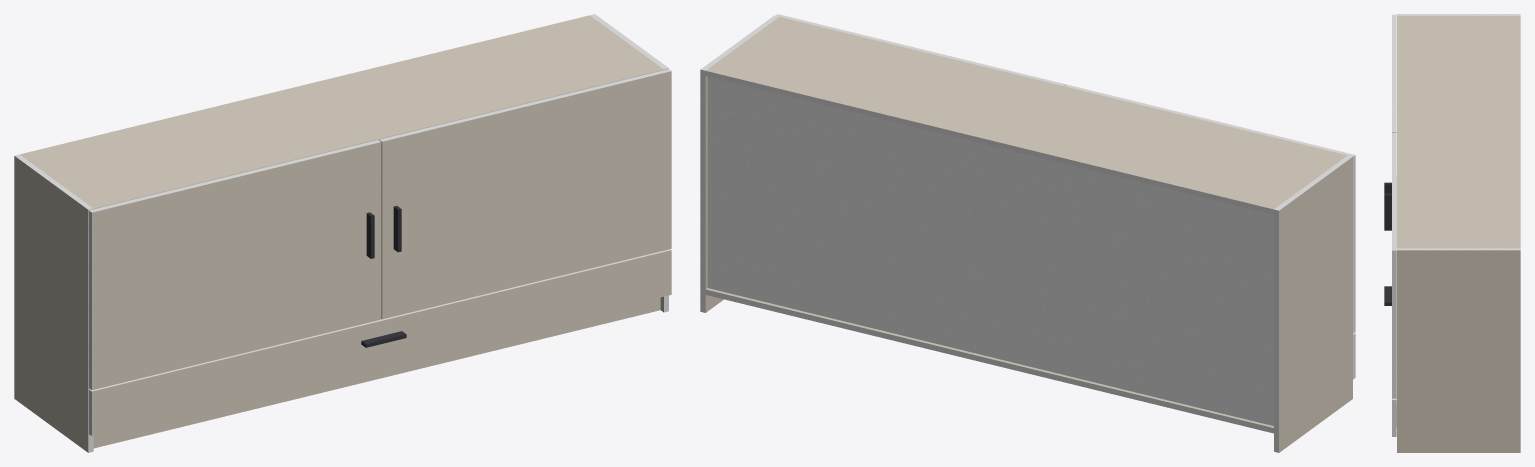
The model's file is CAL-SDB-long.glb.
3 views of the same model, side by side, from view 1: azimuth 30°, elevation 25°; view 2: azimuth 150°, elevation 25°; view 3: azimuth 270°, elevation 25° (orthographic). The views are drawn at different scales.
Parts seen in each view (by area): view 1: door-r:pbr, door-l:pbr, top:pbr, d1-front:pbr, side-l:pbr, plinth:pbr, pull, d1-front:sheet:eyJtIjoibWRmIiwic2lkZSI6ImVkZ2UtbG9uZyIsInNlZ, door-l:sheet:eyJtIjoibWRmIiwic2lkZSI6ImVkZ2UtbG9uZyIsInNlZWQ, door-r:sheet:eyJtIjoibWRmIiwic2lkZSI6ImVkZ2UtbG9uZyIsInNlZWQ, top:sheet:eyJtIjoibWRmIiwic2lkZSI6ImVkZ2UtbG9uZyIsInNlZWQiOj; view 2: back:sheet:eyJtIjoibWRmIiwic2lkZSI6ImZhY2UiLCJzZWVkIjoyLCJ0a, top:pbr, side-l:pbr, bottom:sheet:eyJtIjoibWRmIiwic2lkZSI6ImVkZ2UtbG9uZyIsInNlZWQ, top:sheet:eyJtIjoibWRmIiwic2lkZSI6ImVkZ2UtbG9uZyIsInNlZWQiOj, side-r:sheet:eyJtIjoibWRmIiwic2lkZSI6ImVkZ2UtbG9uZyIsInNlZWQ, bottom:pbr, side-l:sheet:eyJtIjoibWRmIiwic2lkZSI6ImVkZ2UtbG9uZyIsInNlZWQ, door-l:sheet:eyJtIjoibWRmIiwic2lkZSI6ImVkZ2UtbG9uZyIsInNlZWQ, door-r:sheet:eyJtIjoibWRmIiwic2lkZSI6ImVkZ2UtbG9uZyIsInNlZWQ, side-r:pbr; view 3: top:pbr, side-r:pbr, door-r:sheet:eyJtIjoibWRmIiwic2lkZSI6ImVkZ2UtZW5kIiwic2VlZCI, door-l:sheet:eyJtIjoibWRmIiwic2lkZSI6ImVkZ2UtbG9uZyIsInNlZWQ, door-r:sheet:eyJtIjoibWRmIiwic2lkZSI6ImVkZ2UtbG9uZyIsInNlZWQ, pull, side-r:sheet:eyJtIjoibWRmIiwic2lkZSI6ImVkZ2UtZW5kIiwic2VlZCI, side-l:sheet:eyJtIjoibWRmIiwic2lkZSI6ImVkZ2UtZW5kIiwic2VlZCI, d1-box-front:sheet:eyJtIjoibWRmIiwic2lkZSI6ImVkZ2UtbG9uZyIsI, d1-front:sheet:eyJtIjoibWRmIiwic2lkZSI6ImVkZ2UtZW5kIiwic2VlZ.
Part boxes in pixels (left/top/right/bottom): door-r:pbr: left=382, top=71, right=671, bottom=319; door-l:pbr: left=92, top=142, right=381, bottom=389; top:pbr: left=20, top=15, right=663, bottom=208; d1-front:pbr: left=92, top=250, right=671, bottom=435; side-l:pbr: left=14, top=156, right=88, bottom=452; plinth:pbr: left=93, top=297, right=660, bottom=448; pull: left=361, top=206, right=406, bottom=347; d1-front:sheet:eyJtIjoibWRmIiwic2lkZSI6ImVkZ2UtbG9uZyIsInNlZ: left=89, top=249, right=671, bottom=391; door-l:sheet:eyJtIjoibWRmIiwic2lkZSI6ImVkZ2UtbG9uZyIsInNlZWQ: left=89, top=140, right=380, bottom=212; door-r:sheet:eyJtIjoibWRmIiwic2lkZSI6ImVkZ2UtbG9uZyIsInNlZWQ: left=380, top=69, right=671, bottom=141; top:sheet:eyJtIjoibWRmIiwic2lkZSI6ImVkZ2UtbG9uZyIsInNlZWQiOj: left=94, top=69, right=663, bottom=209; back:sheet:eyJtIjoibWRmIiwic2lkZSI6ImZhY2UiLCJzZWVkIjoyLCJ0a: left=707, top=77, right=1273, bottom=425; top:pbr: left=706, top=17, right=1347, bottom=209; side-l:pbr: left=1279, top=157, right=1352, bottom=452; bottom:sheet:eyJtIjoibWRmIiwic2lkZSI6ImVkZ2UtbG9uZyIsInNlZWQ: left=705, top=289, right=1273, bottom=433; top:sheet:eyJtIjoibWRmIiwic2lkZSI6ImVkZ2UtbG9uZyIsInNlZWQiOj: left=705, top=71, right=1273, bottom=214; side-r:sheet:eyJtIjoibWRmIiwic2lkZSI6ImVkZ2UtbG9uZyIsInNlZWQ: left=700, top=69, right=705, bottom=312; bottom:pbr: left=706, top=288, right=1273, bottom=427; side-l:sheet:eyJtIjoibWRmIiwic2lkZSI6ImVkZ2UtbG9uZyIsInNlZWQ: left=1274, top=209, right=1278, bottom=452; door-l:sheet:eyJtIjoibWRmIiwic2lkZSI6ImVkZ2UtbG9uZyIsInNlZWQ: left=1065, top=84, right=1354, bottom=156; door-r:sheet:eyJtIjoibWRmIiwic2lkZSI6ImVkZ2UtbG9uZyIsInNlZWQ: left=775, top=14, right=1065, bottom=85; side-r:pbr: left=705, top=76, right=723, bottom=312; top:pbr: left=1397, top=16, right=1520, bottom=248; side-r:pbr: left=1397, top=250, right=1520, bottom=452; door-r:sheet:eyJtIjoibWRmIiwic2lkZSI6ImVkZ2UtZW5kIiwic2VlZCI: left=1392, top=250, right=1396, bottom=398; door-l:sheet:eyJtIjoibWRmIiwic2lkZSI6ImVkZ2UtbG9uZyIsInNlZWQ: left=1392, top=14, right=1396, bottom=132; door-r:sheet:eyJtIjoibWRmIiwic2lkZSI6ImVkZ2UtbG9uZyIsInNlZWQ: left=1392, top=133, right=1396, bottom=250; pull: left=1384, top=182, right=1391, bottom=305; side-r:sheet:eyJtIjoibWRmIiwic2lkZSI6ImVkZ2UtZW5kIiwic2VlZCI: left=1397, top=248, right=1520, bottom=250; side-l:sheet:eyJtIjoibWRmIiwic2lkZSI6ImVkZ2UtZW5kIiwic2VlZCI: left=1397, top=14, right=1520, bottom=15; d1-box-front:sheet:eyJtIjoibWRmIiwic2lkZSI6ImVkZ2UtbG9uZyIsI: left=1396, top=178, right=1396, bottom=402; d1-front:sheet:eyJtIjoibWRmIiwic2lkZSI6ImVkZ2UtZW5kIiwic2VlZ: left=1392, top=400, right=1396, bottom=436.
Bounding box in the file's own units: 2 × 0.8 × 0.4869.
Materials: 55 (42 with a texture image).
